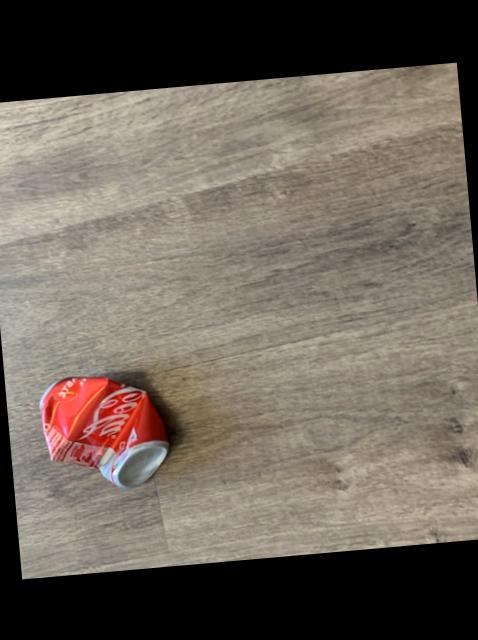metal: (41, 377, 169, 488)
